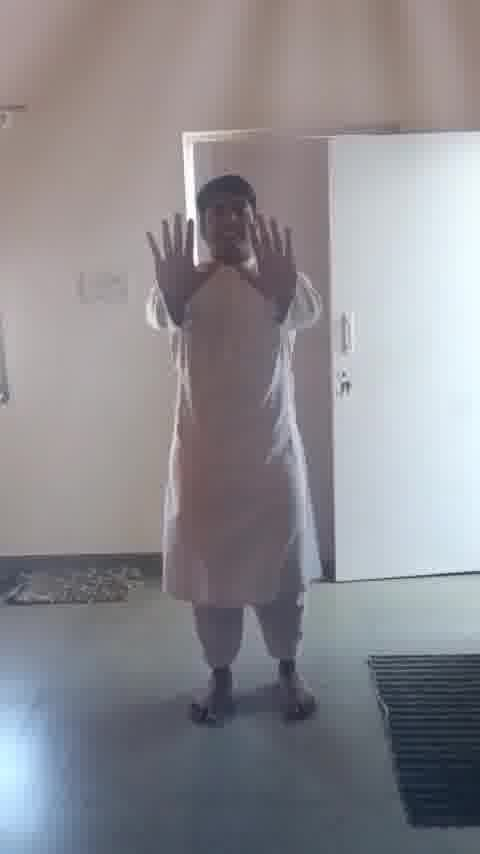duck: (132, 167, 393, 731)
